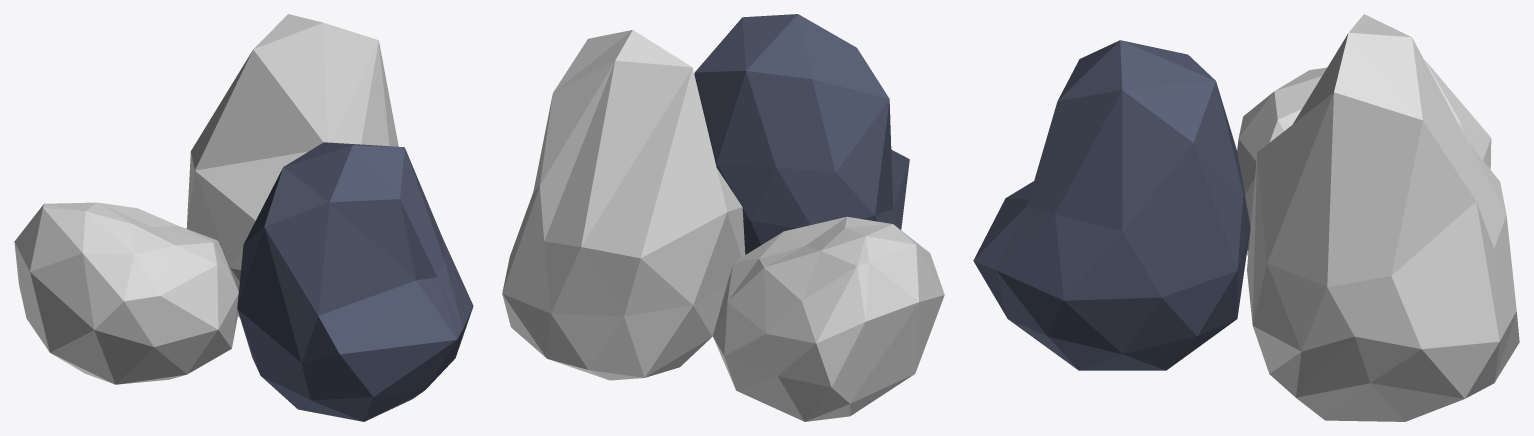
Rendered from Piedras_grupo.glb.
3 views of the same model, side by side, from view 1: azimuth 30°, elevation 25°; view 2: azimuth 150°, elevation 25°; view 3: azimuth 270°, elevation 25° (orthographic). The views are drawn at different scales.
Parts seen in each view (by area): view 1: Icosphere.001, Icosphere, Icosphere.002; view 2: Icosphere.002, Icosphere, Icosphere.001; view 3: Icosphere.002, Icosphere.001, Icosphere.
Boxes of the visible parts, box(x1,y1,x2,y2) form: Icosphere.001: box(237, 142, 473, 421); Icosphere: box(14, 202, 238, 384); Icosphere.002: box(186, 14, 398, 317); Icosphere.002: box(502, 30, 745, 380); Icosphere: box(713, 216, 944, 421); Icosphere.001: box(694, 14, 909, 254); Icosphere.002: box(1247, 14, 1519, 421); Icosphere.001: box(973, 40, 1250, 370); Icosphere: box(1237, 60, 1491, 255).
Bounding box in the file's own units: 3.68 × 2.93 × 3.85.
